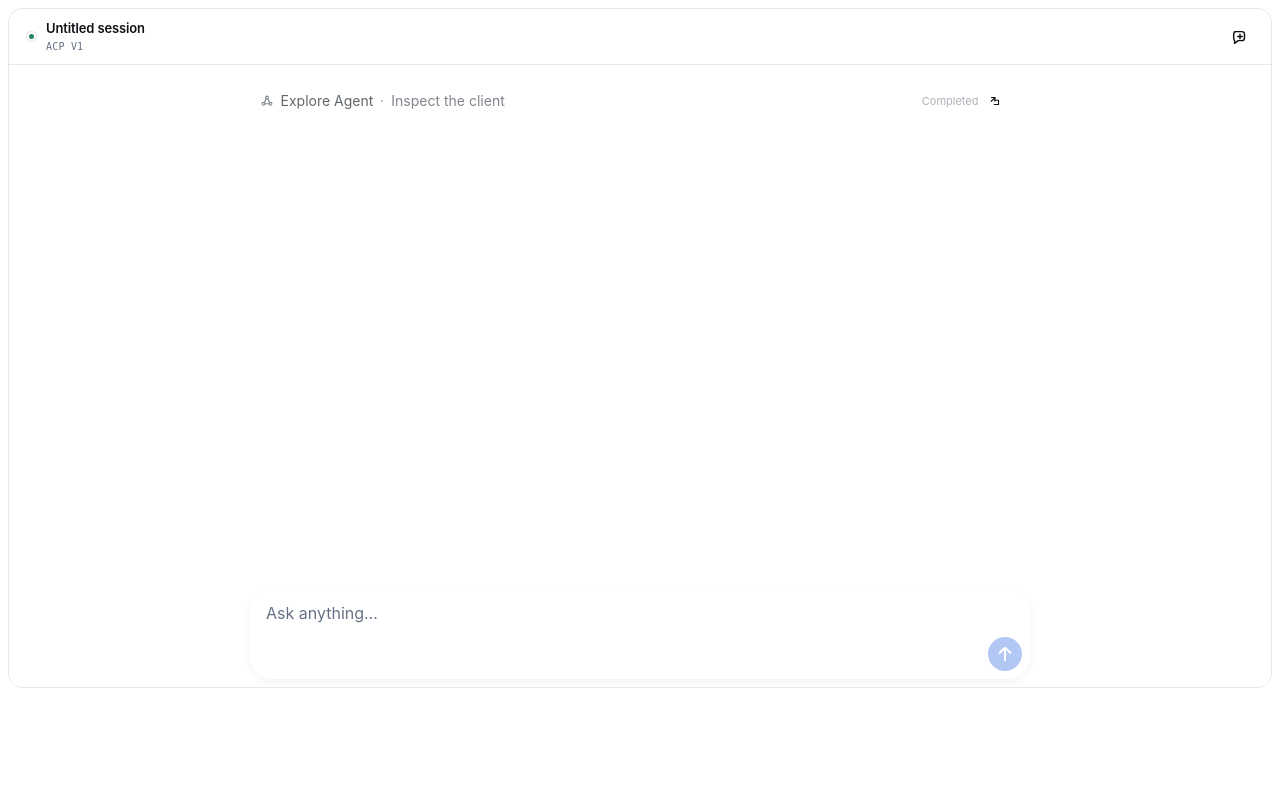
Test: Agent activity › surfaces a child navigation failure through the existing action error
The image size is (1280, 800).
Click the button named "Open child session". click: (994, 101)
box: [982,89,1006,113]
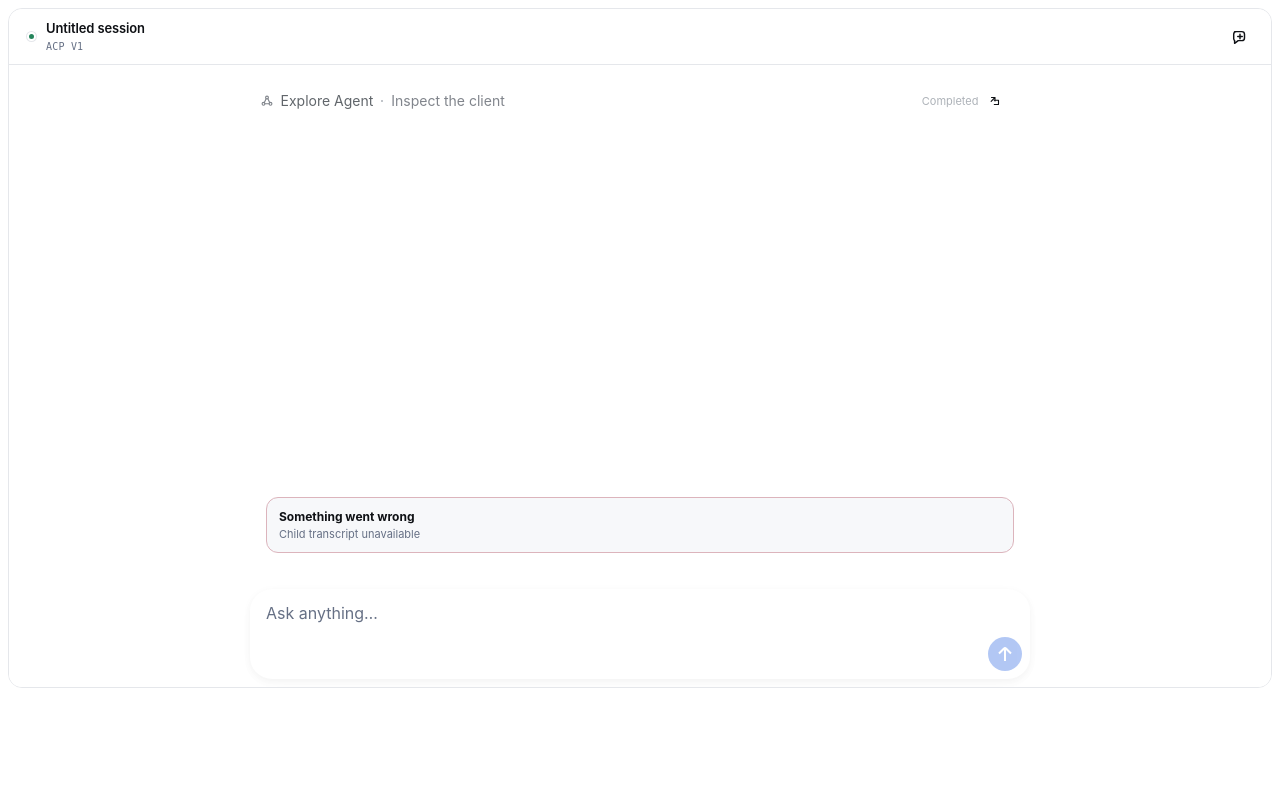
Result: the message shows "Child transcript unavailable" at [279,526,420,540]
